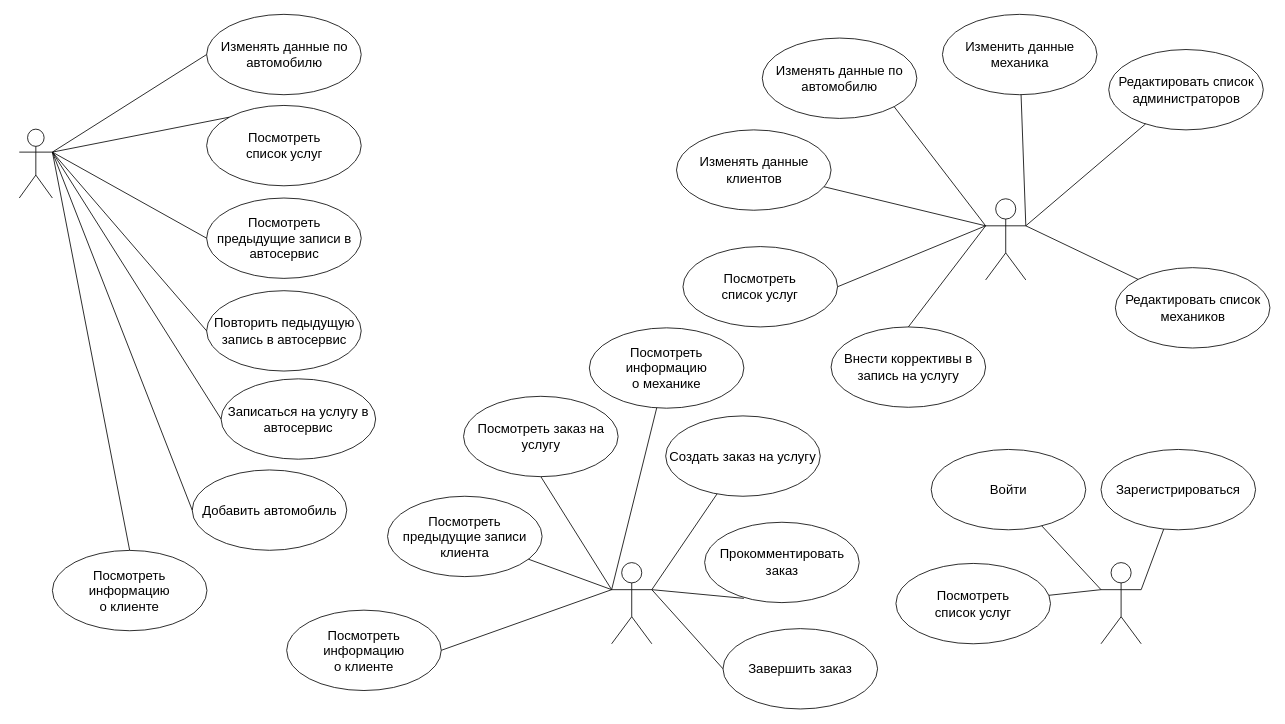
The diagram is 1285 pixels wide and 724 high, and some of its shapes have lost their labels. Here are the shapes that lost their labels. From the top down, the box of each, then its label:
(18, 128, 52, 198): Клиент
(985, 198, 1026, 280): Администратор
(611, 562, 652, 644): Механик
(1100, 562, 1141, 644): Гость
